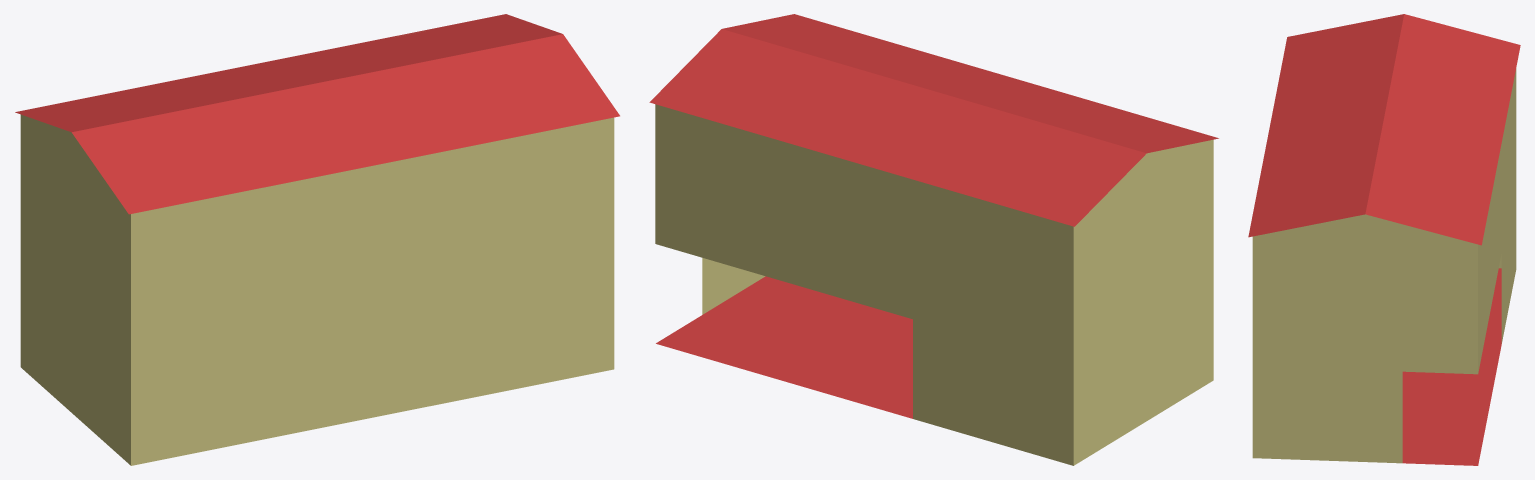
The picture shows the model from 3 angles, left to right: view 1: azimuth 30°, elevation 25°; view 2: azimuth 150°, elevation 25°; view 3: azimuth 270°, elevation 25°; orthographic projection. The views are drawn at different scales.
Size of the model in its own units: 31.06 by 17.15 by 17.32.
